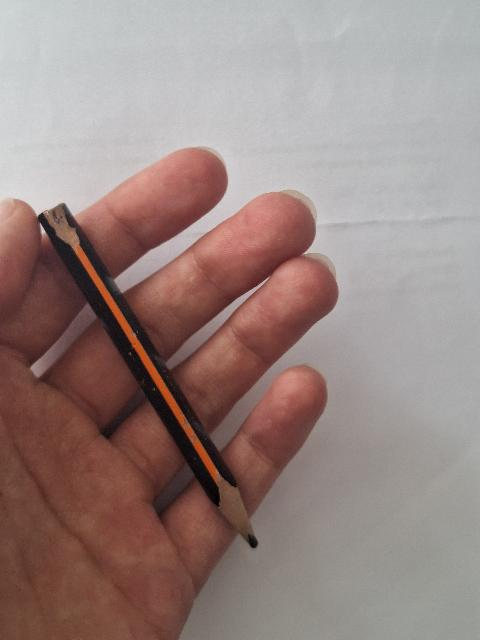writing_tool: (35, 200, 259, 551)
